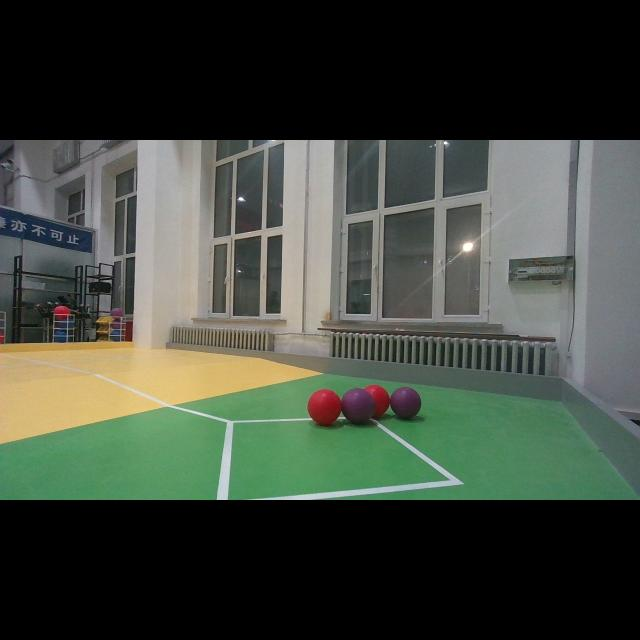P: (342, 388, 374, 424), (391, 387, 422, 419)
R: (308, 389, 340, 425), (364, 386, 390, 416)
S: (50, 311, 74, 344), (105, 314, 128, 344), (0, 308, 10, 348)
